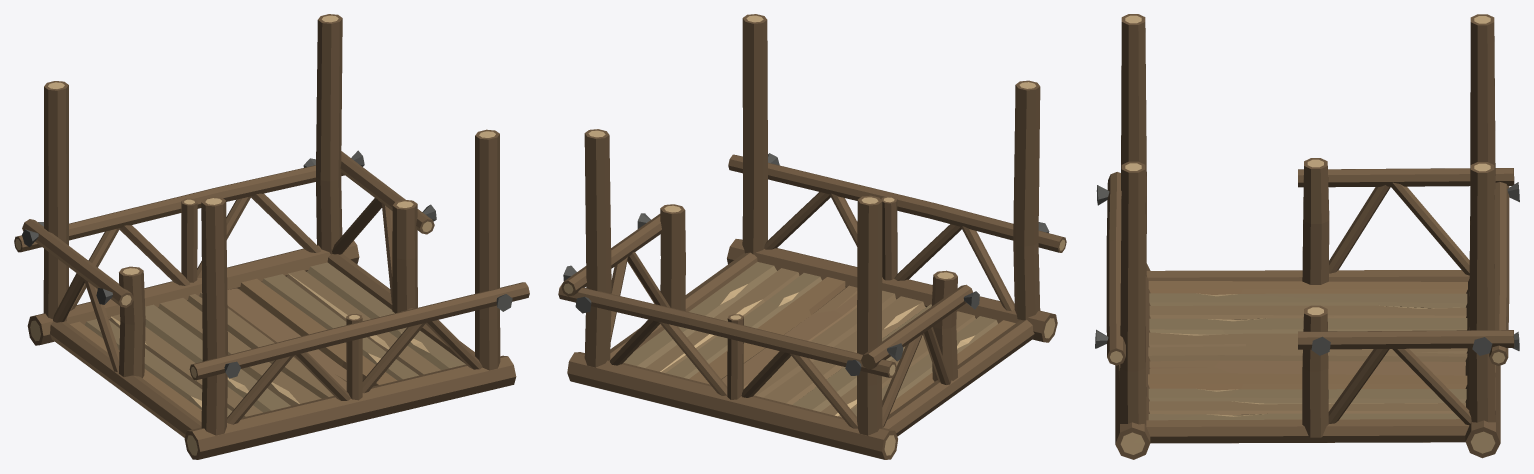
File: rpgpp_ag_tower_01_platform_02d.fbx
The picture shows the model from 3 angles, left to right: view 1: azimuth 30°, elevation 25°; view 2: azimuth 150°, elevation 25°; view 3: azimuth 270°, elevation 25°; orthographic projection. The views are drawn at different scales.
Visible parts, largest first — view 1: rpgpp_ag_tower_01_platform_02d; view 2: rpgpp_ag_tower_01_platform_02d; view 3: rpgpp_ag_tower_01_platform_02d.
Part boxes in pixels (x1,y1,x2,y2): rpgpp_ag_tower_01_platform_02d: [14, 14, 529, 459]; rpgpp_ag_tower_01_platform_02d: [558, 14, 1066, 459]; rpgpp_ag_tower_01_platform_02d: [1095, 14, 1519, 459].
Size of the model in its own units: 4.84 by 3.52 by 4.81.
